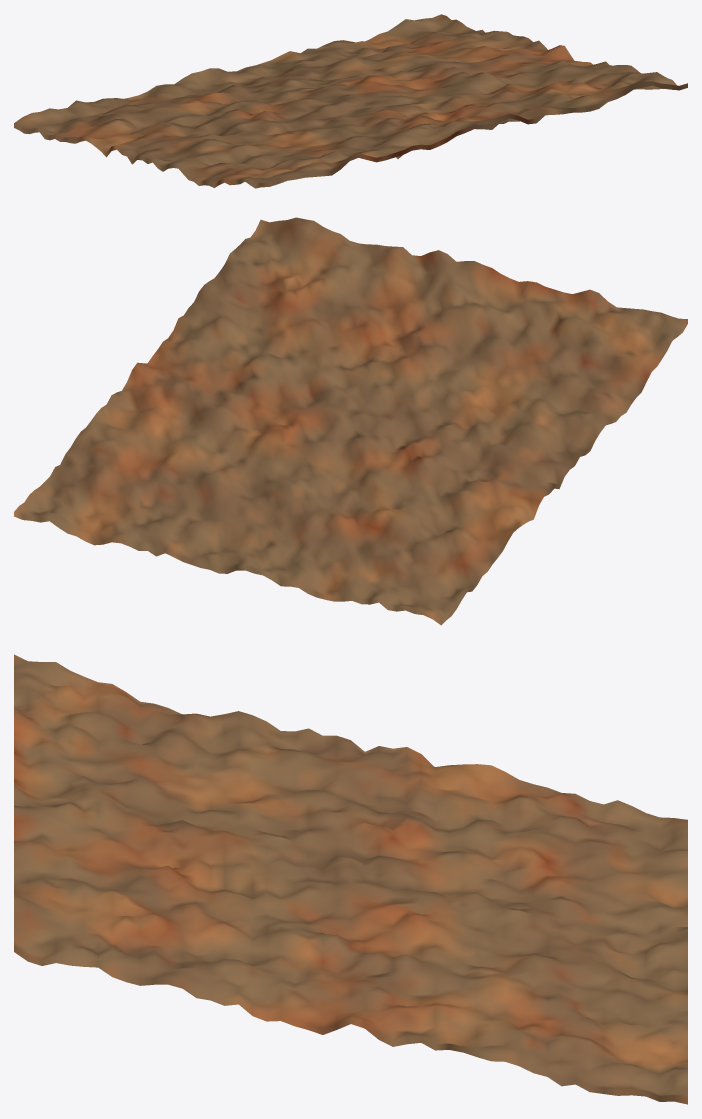
File: terrain-160.glb
3 renders of one model, top to bottom at view 1: azimuth 30°, elevation 25°; view 2: azimuth 150°, elevation 25°; view 3: azimuth 270°, elevation 25°, orthographic. The views are drawn at different scales.
Parts seen in each view (by area): view 1: terrain-160; view 2: terrain-160; view 3: terrain-160.
Boxes of the visible parts, x1,y1,x2,y2 form: terrain-160: [14, 14, 687, 188]; terrain-160: [14, 217, 687, 625]; terrain-160: [14, 654, 687, 1104].
Bounding box in the file's own units: 384 × 119 × 384.
